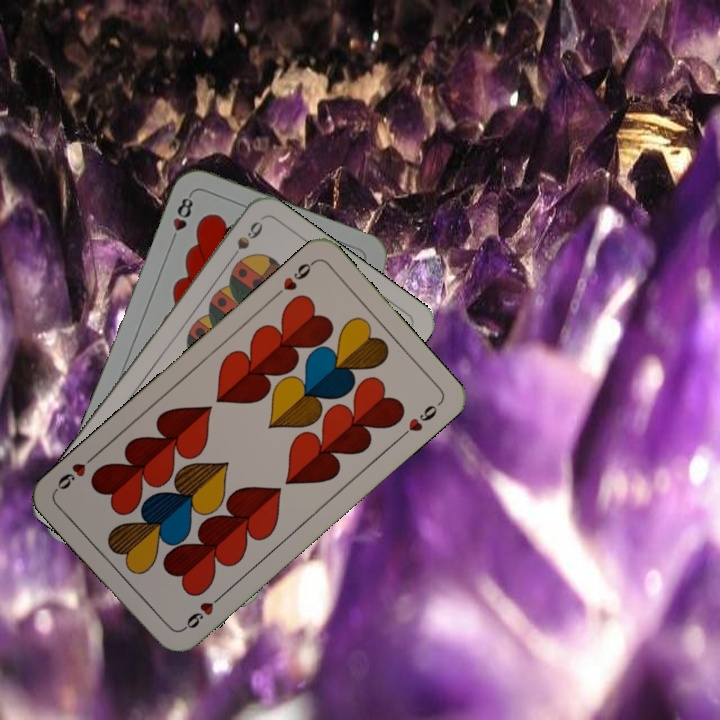H8: (166, 190, 196, 247)
H9: (269, 256, 318, 301), (177, 590, 226, 634)
S9: (223, 217, 266, 267)
